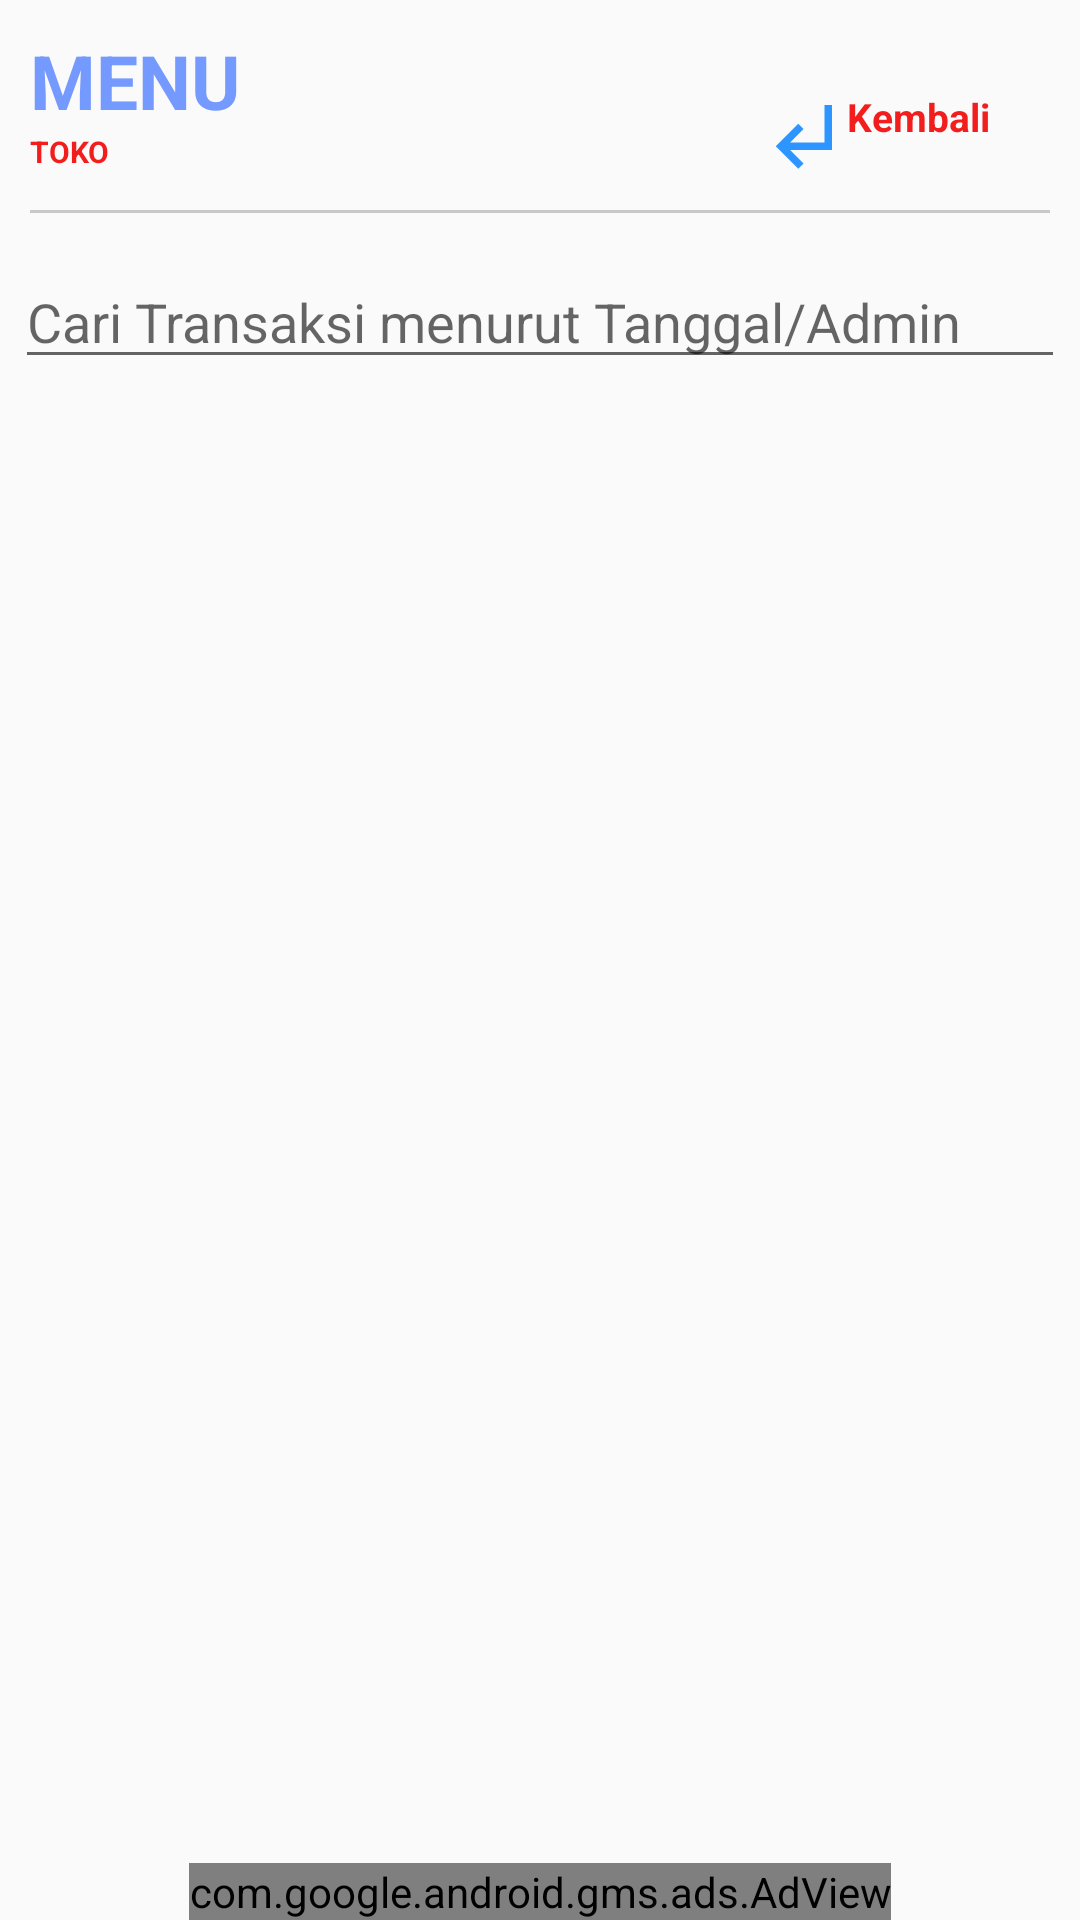

Screen size 1080w x 1920h. Icon name, then its center in pixels as (x=x, y=y):
subdirectory arrow left: (x=804, y=137)
